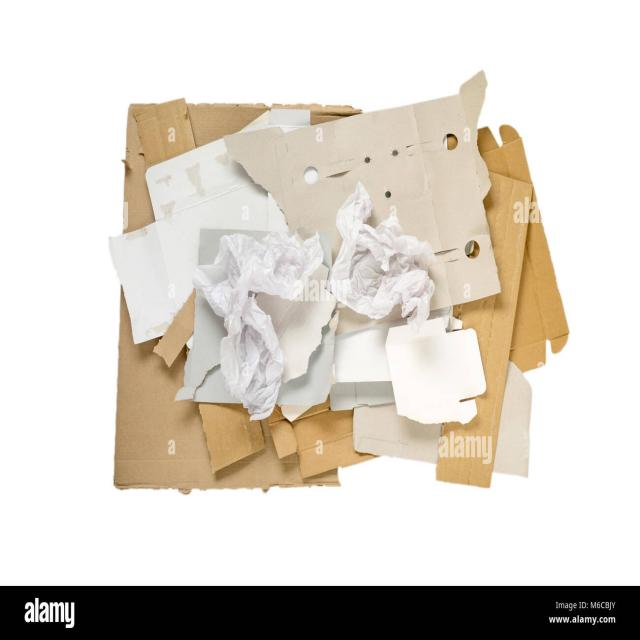Paper -Biodegradable-: (118, 70, 568, 489)
